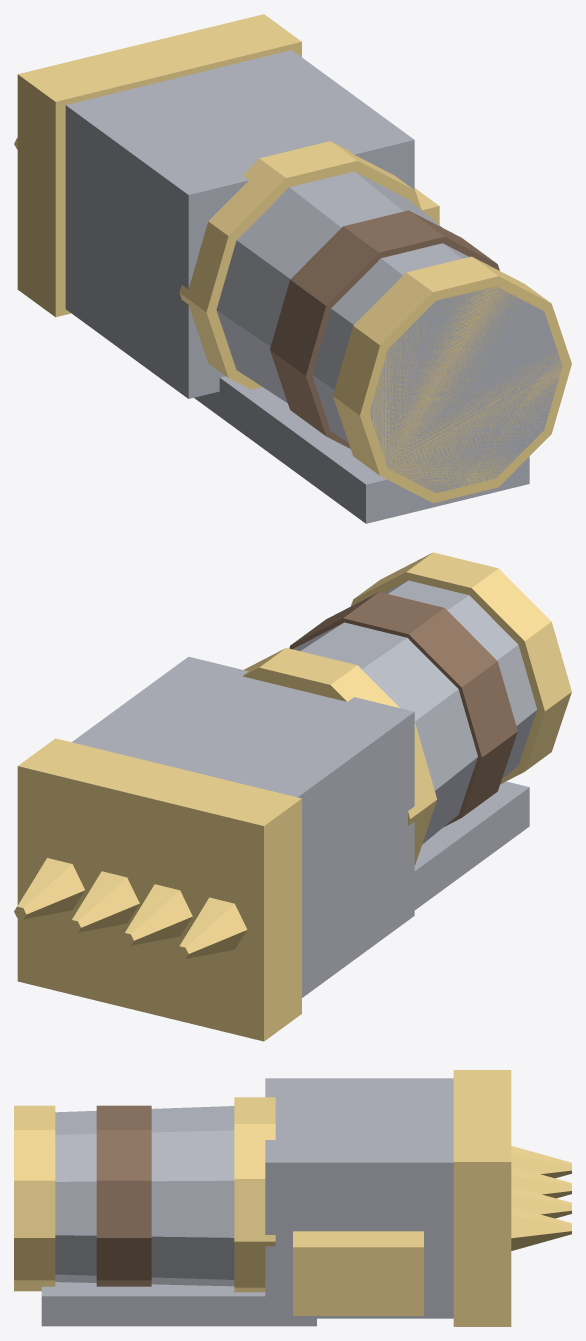
File: Monk_GauntletL.fbx
3 views of the same model, one above another, from view 1: azimuth 30°, elevation 25°; view 2: azimuth 150°, elevation 25°; view 3: azimuth 270°, elevation 25° (orthographic). The views are drawn at different scales.
Visible parts, largest first — view 1: Monk_GauntletL_Armor, Monk_GauntletL_BrassKnuckles, Monk_GauntletL_Straps; view 2: Monk_GauntletL_BrassKnuckles, Monk_GauntletL_Armor, Monk_GauntletL_Straps; view 3: Monk_GauntletL_Armor, Monk_GauntletL_BrassKnuckles, Monk_GauntletL_Straps.
Part boxes in pixels (x1,y1,x2,y2): Monk_GauntletL_Armor: (65, 50, 562, 523); Monk_GauntletL_BrassKnuckles: (14, 14, 571, 503); Monk_GauntletL_Straps: (270, 210, 499, 448); Monk_GauntletL_BrassKnuckles: (14, 552, 571, 1041); Monk_GauntletL_Armor: (72, 580, 537, 997); Monk_GauntletL_Straps: (289, 592, 517, 826); Monk_GauntletL_Armor: (41, 1078, 453, 1326); Monk_GauntletL_BrassKnuckles: (14, 1070, 571, 1326); Monk_GauntletL_Straps: (96, 1105, 151, 1286).
Bounding box in the file's own units: 0.179 × 0.1484 × 0.405.
